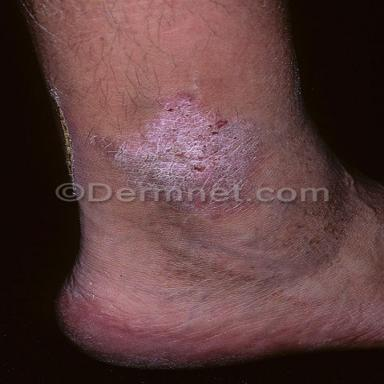Psoriasis: (89, 88, 262, 187)
